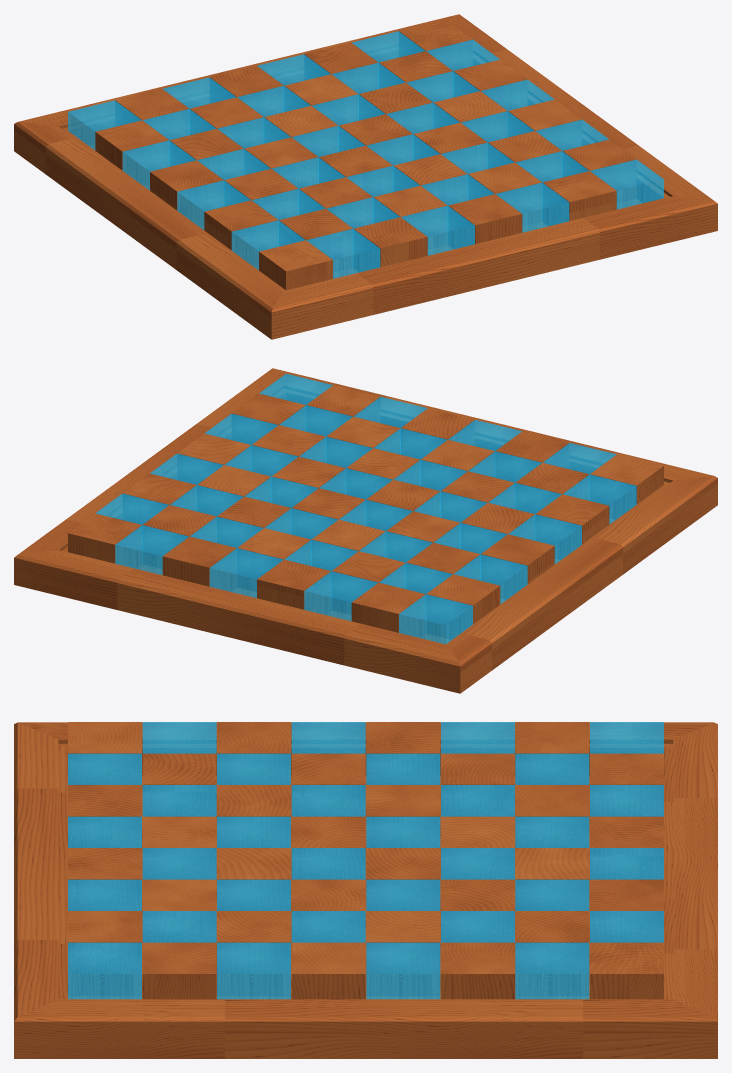
Rendered from board.glb.
3 renders of one model, top to bottom at view 1: azimuth 30°, elevation 25°; view 2: azimuth 150°, elevation 25°; view 3: azimuth 270°, elevation 25°, orthographic. The views are drawn at different scales.
Visible parts, largest first — view 1: Frame, a7, a3, a5, e1, g1, c1, b2, h2, d2, f2, a1 (+53 smaller); view 2: Frame, a7, a3, a1, a5, f8, b8, h8, d8, g7, c7, e7 (+53 smaller); view 3: Frame, g5, g7, g1, g3, b2, d2, f2, b4, d4, f4, b6 (+53 smaller).
Part boxes in pixels (x1=…): Frame: x1=14, y1=14, x2=717, y2=339; a7: x1=95, y1=120, x2=169, y2=185; a3: x1=204, y1=200, x2=278, y2=265; a5: x1=150, y1=160, x2=223, y2=225; e1: x1=448, y1=194, x2=522, y2=248; g1: x1=542, y1=171, x2=616, y2=225; c1: x1=354, y1=217, x2=427, y2=271; b2: x1=279, y1=208, x2=352, y2=272; h2: x1=562, y1=139, x2=636, y2=202; d2: x1=373, y1=185, x2=447, y2=249; f2: x1=468, y1=162, x2=541, y2=225; a1: x1=259, y1=240, x2=332, y2=290; Frame: x1=14, y1=368, x2=717, y2=693; a7: x1=426, y1=574, x2=500, y2=639; a3: x1=535, y1=494, x2=609, y2=559; a1: x1=590, y1=454, x2=663, y2=519; a5: x1=481, y1=534, x2=554, y2=599; f8: x1=162, y1=536, x2=236, y2=591; b8: x1=351, y1=583, x2=425, y2=637; h8: x1=68, y1=513, x2=141, y2=568; d8: x1=257, y1=559, x2=330, y2=614; g7: x1=143, y1=505, x2=216, y2=568; c7: x1=331, y1=551, x2=405, y2=614; e7: x1=237, y1=528, x2=310, y2=591; Frame: x1=14, y1=722, x2=717, y2=1058; g5: x1=366, y1=911, x2=440, y2=995; g7: x1=515, y1=911, x2=589, y2=995; g1: x1=68, y1=911, x2=141, y2=995; g3: x1=217, y1=911, x2=290, y2=995; b2: x1=142, y1=753, x2=216, y2=816; d2: x1=142, y1=816, x2=216, y2=879; f2: x1=142, y1=879, x2=216, y2=942; b4: x1=291, y1=753, x2=365, y2=816; d4: x1=291, y1=816, x2=365, y2=879; f4: x1=291, y1=879, x2=365, y2=942; b6: x1=441, y1=753, x2=514, y2=816.
Bounding box in the file's own units: 9.45 × 0.9211 × 9.45.
5 materials, 5 textured.
